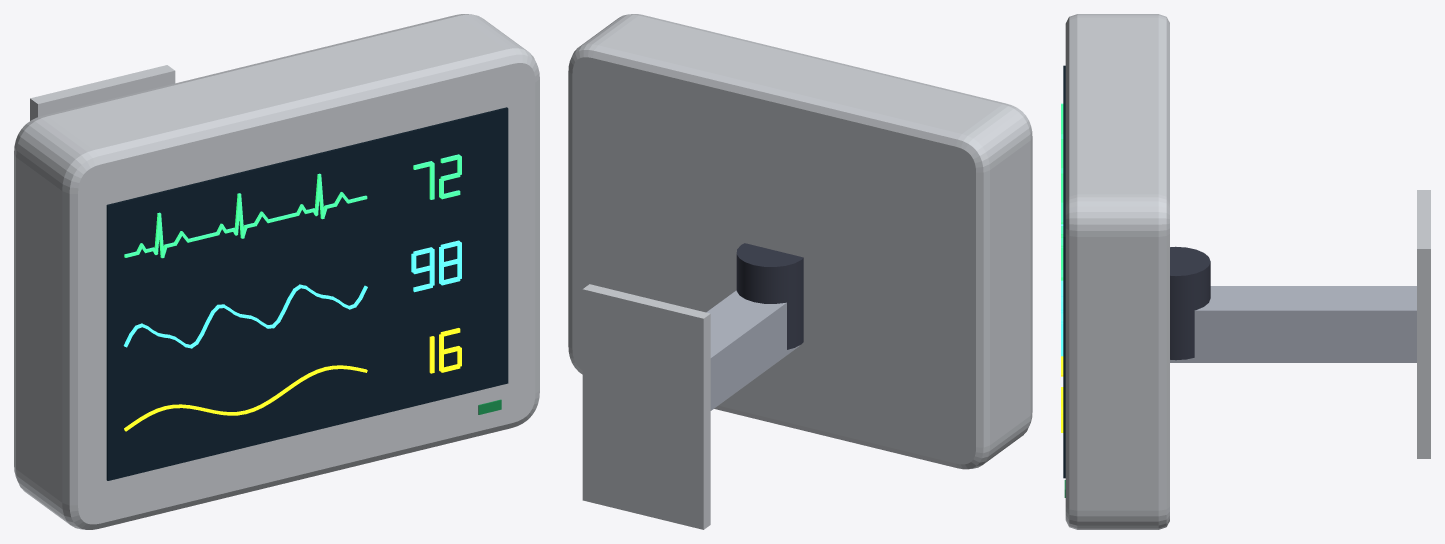
File: hos-008.glb
3 views of the same model, side by side, from view 1: azimuth 30°, elevation 25°; view 2: azimuth 150°, elevation 25°; view 3: azimuth 270°, elevation 25° (orthographic). The views are drawn at different scales.
Parts seen in each view (by area): view 1: housing, screen, wall_plate; view 2: housing, wall_plate, arm, tilt_knuckle; view 3: housing, arm, wall_plate, tilt_knuckle, screen.
Boxes of the visible parts, x1,y1,x2,y2 form: housing: (14, 14, 539, 529); screen: (106, 107, 508, 480); wall_plate: (30, 65, 175, 120); housing: (568, 14, 1032, 469); wall_plate: (582, 284, 710, 529); arm: (706, 290, 799, 410); tilt_knuckle: (736, 243, 803, 349); housing: (1065, 14, 1169, 529); arm: (1170, 286, 1416, 362); wall_plate: (1417, 190, 1430, 458); tilt_knuckle: (1170, 246, 1210, 360); screen: (1063, 65, 1065, 478).
Size of the model in its own units: 0.416 by 0.316 by 0.319.
